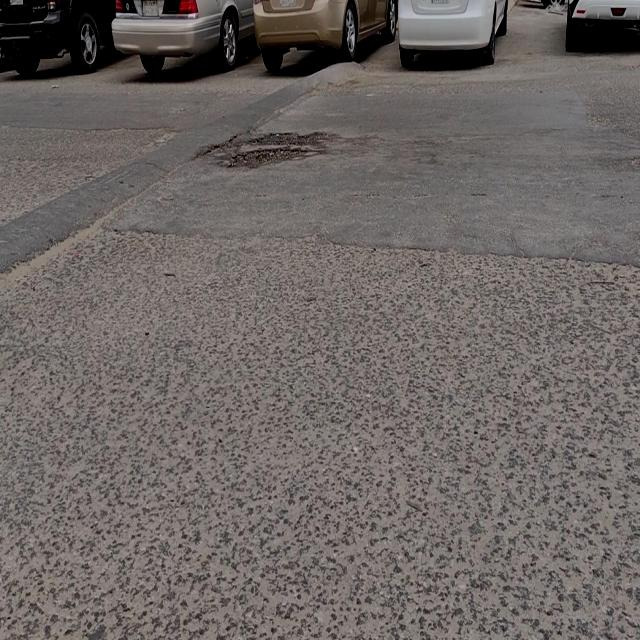Potholes: (215, 129, 330, 172)
